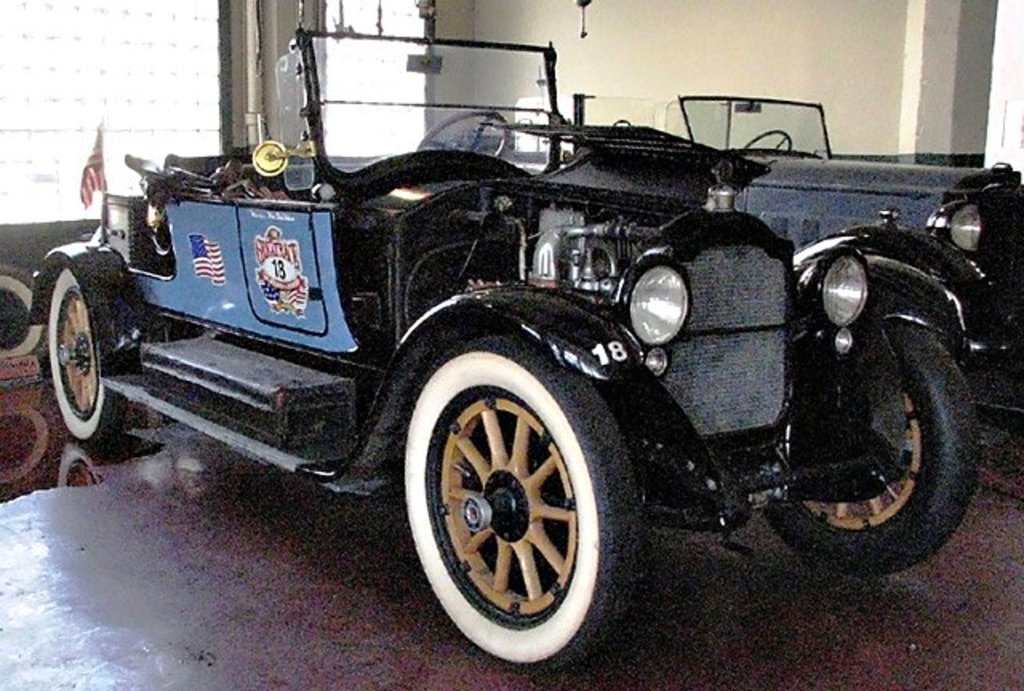Car: (27, 0, 974, 671), (620, 89, 1022, 364)
